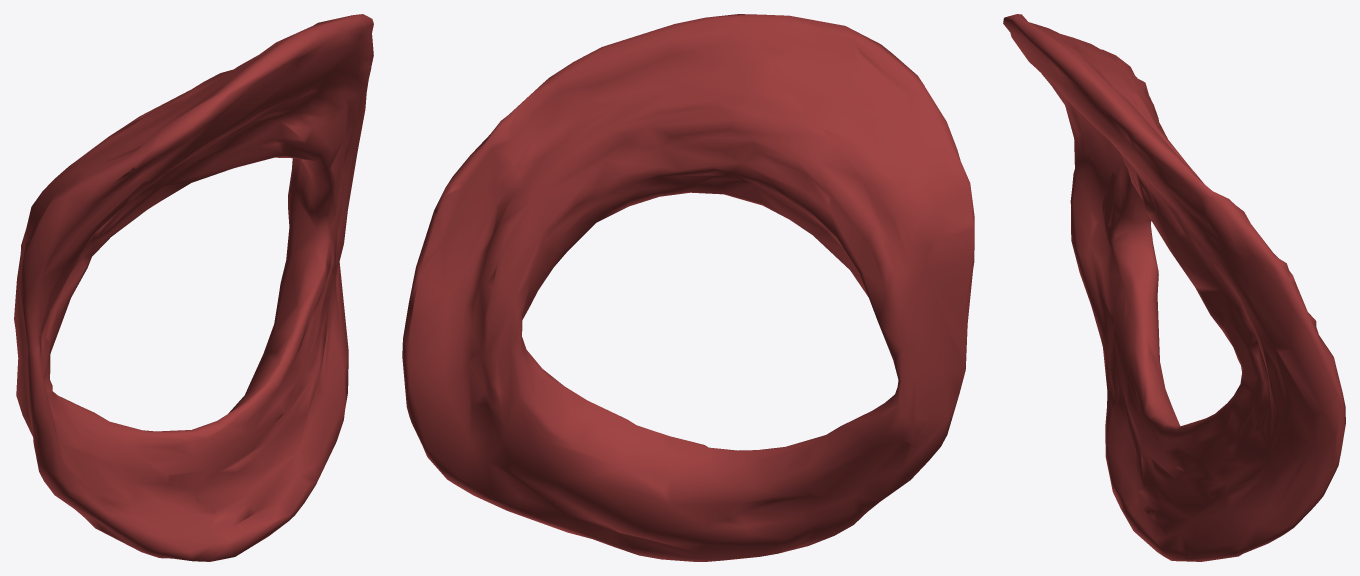
The model's file is orbital-part-of-orbicularis-oculi-l.glb.
3 views of the same model, side by side, from view 1: azimuth 30°, elevation 25°; view 2: azimuth 150°, elevation 25°; view 3: azimuth 270°, elevation 25° (orthographic). The views are drawn at different scales.
Parts seen in each view (by area): view 1: Orbital part of orbicularis oculi.l; view 2: Orbital part of orbicularis oculi.l; view 3: Orbital part of orbicularis oculi.l.
Part boxes in pixels (box(x1,y1,x2,y2)): Orbital part of orbicularis oculi.l: box(14, 14, 373, 561); Orbital part of orbicularis oculi.l: box(402, 14, 974, 561); Orbital part of orbicularis oculi.l: box(1003, 14, 1345, 561).
Bounding box in the file's own units: 0.0443 × 0.0497 × 0.0314.
